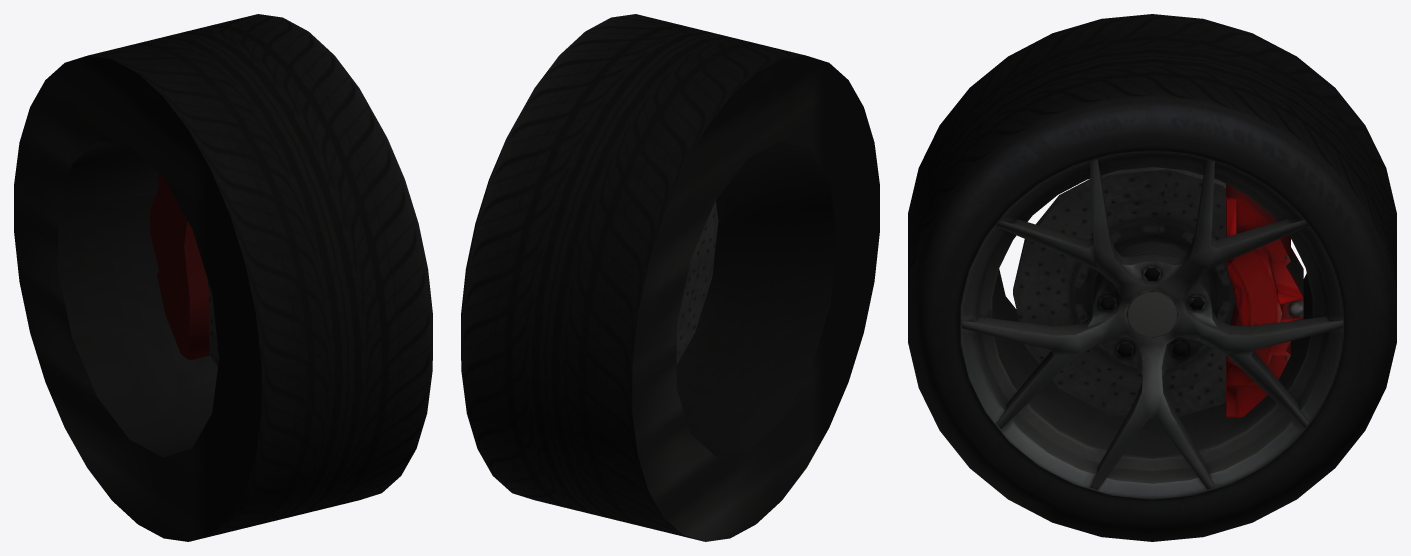
File: WP14_wheelpack.glb
3 views of the same model, side by side, from view 1: azimuth 30°, elevation 25°; view 2: azimuth 150°, elevation 25°; view 3: azimuth 270°, elevation 25° (orthographic).
Parts seen in each view (by area): view 1: MOD_ND_WP14_tyre, MOD_ND_WP14_rim, MOD_ND_WP14_brakes; view 2: MOD_ND_WP14_tyre, MOD_ND_WP14_rim, MOD_ND_WP14_brakes; view 3: MOD_ND_WP14_tyre, MOD_ND_WP14_rim, MOD_ND_WP14_brakes.
Boxes of the visible parts, x1=… form: MOD_ND_WP14_tyre: x1=14, y1=14, x2=432, y2=541; MOD_ND_WP14_rim: x1=58, y1=141, x2=217, y2=457; MOD_ND_WP14_brakes: x1=150, y1=173, x2=218, y2=366; MOD_ND_WP14_tyre: x1=461, y1=14, x2=879, y2=541; MOD_ND_WP14_rim: x1=676, y1=140, x2=837, y2=456; MOD_ND_WP14_brakes: x1=676, y1=200, x2=718, y2=364; MOD_ND_WP14_tyre: x1=908, y1=14, x2=1396, y2=541; MOD_ND_WP14_rim: x1=960, y1=149, x2=1344, y2=499; MOD_ND_WP14_brakes: x1=1013, y1=167, x2=1303, y2=419.
Bounding box in the file's own units: 0.2746 × 0.6414 × 0.6379.
Materials: 2 (2 with a texture image).
